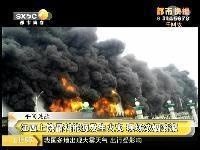fire: (48, 78, 84, 113), (92, 93, 121, 116)
